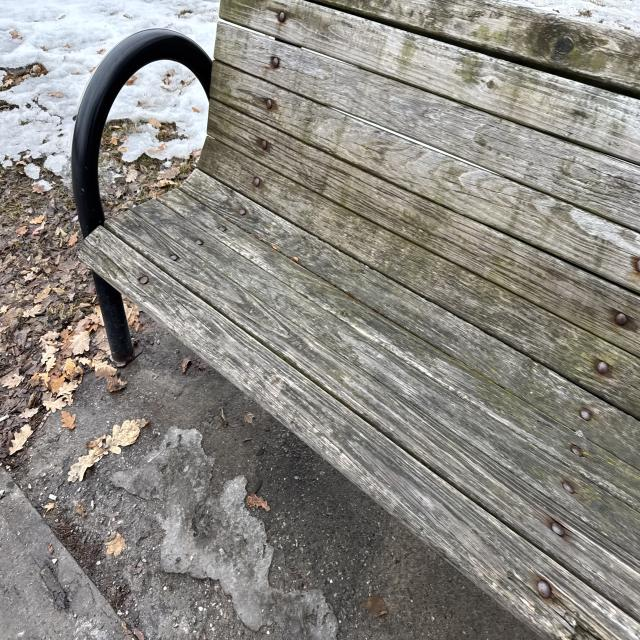Bench: (70, 26, 640, 639)
